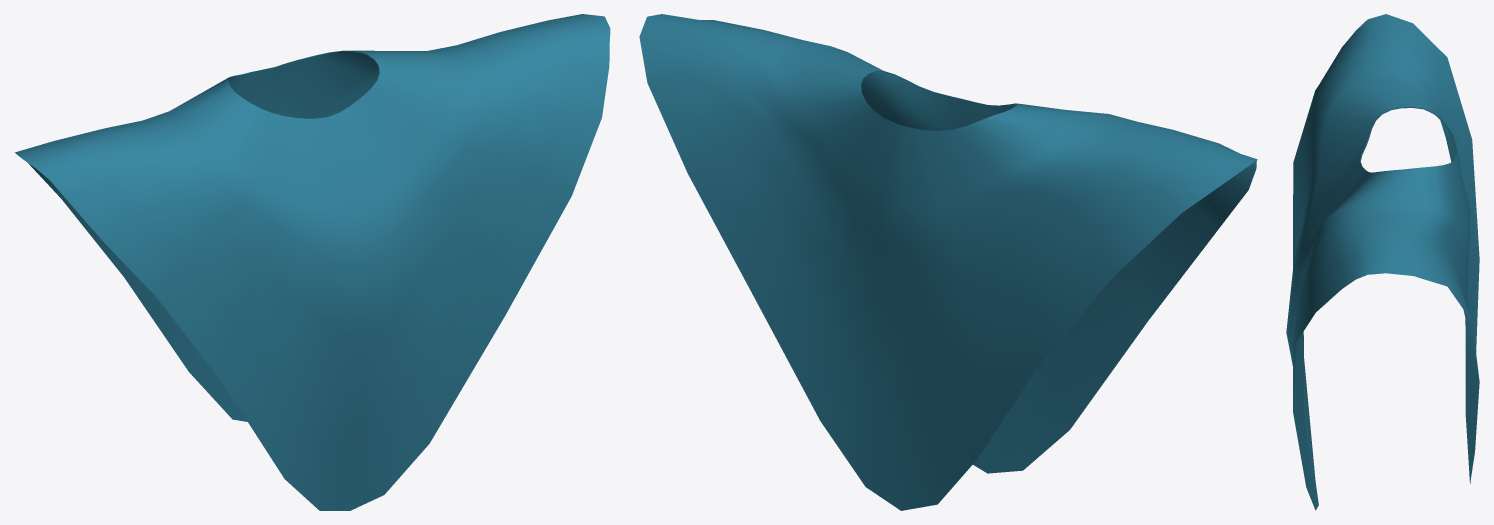
Rendered from Cape_TPOSE.fbx.
3 views of the same model, side by side, from view 1: azimuth 30°, elevation 25°; view 2: azimuth 150°, elevation 25°; view 3: azimuth 270°, elevation 25° (orthographic). The views are drawn at different scales.
Parts seen in each view (by area): view 1: Cape; view 2: Cape; view 3: Cape.
Part boxes in pixels (left/top/right/bottom): Cape: left=14, top=14, right=610, bottom=510; Cape: left=639, top=14, right=1257, bottom=510; Cape: left=1286, top=14, right=1479, bottom=510.
Size of the model in its own units: 11.96 by 7.91 by 3.77.
